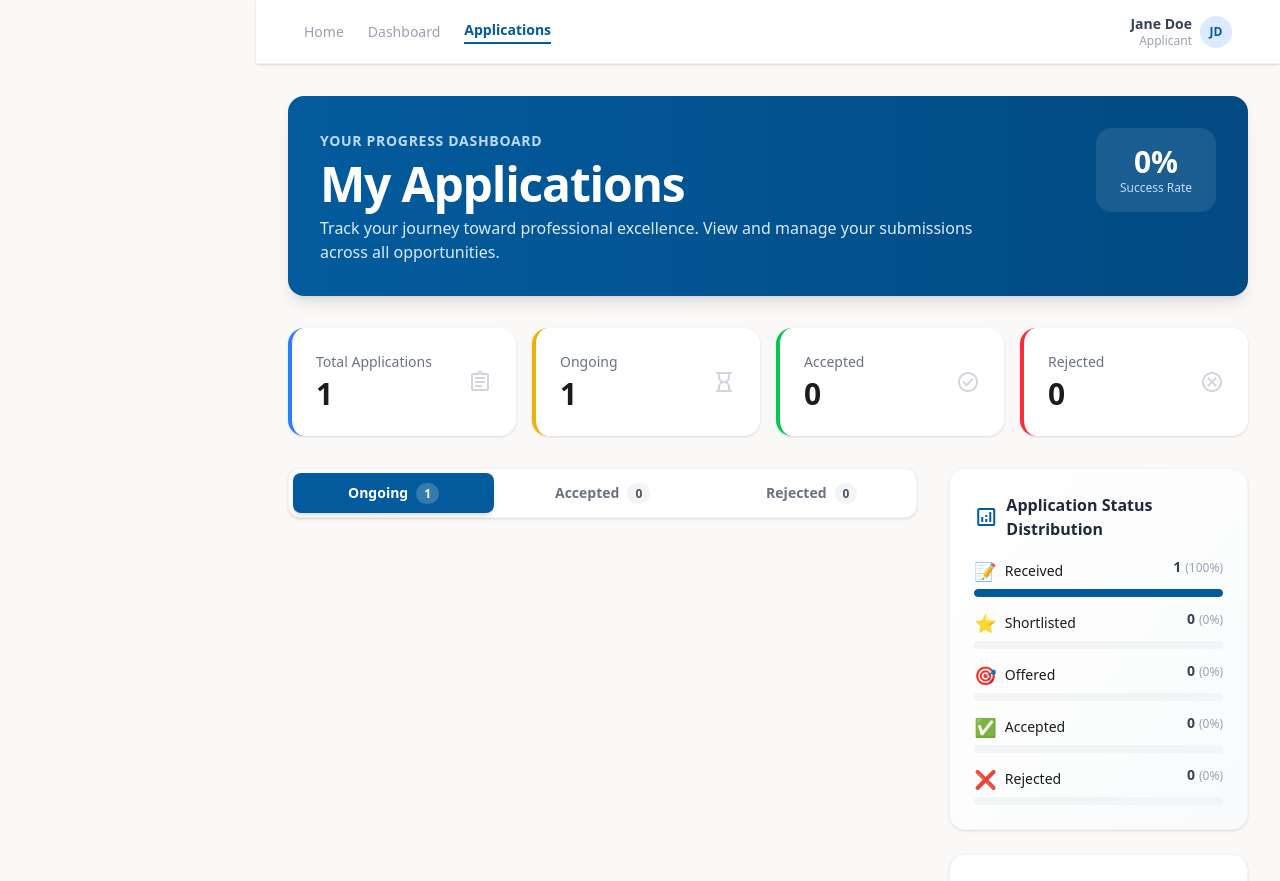
Test case: MyApplications › shows empty state message for Rejected tab with no rejected applications
The width and height of the screenshot is (1280, 881).
Click Rejected tab (select the button explicitly)
What coordinates should you click on to do the following:
click the button "Rejected0"
I would click on:
 (812, 493)
Its box is [711,473,912,513].
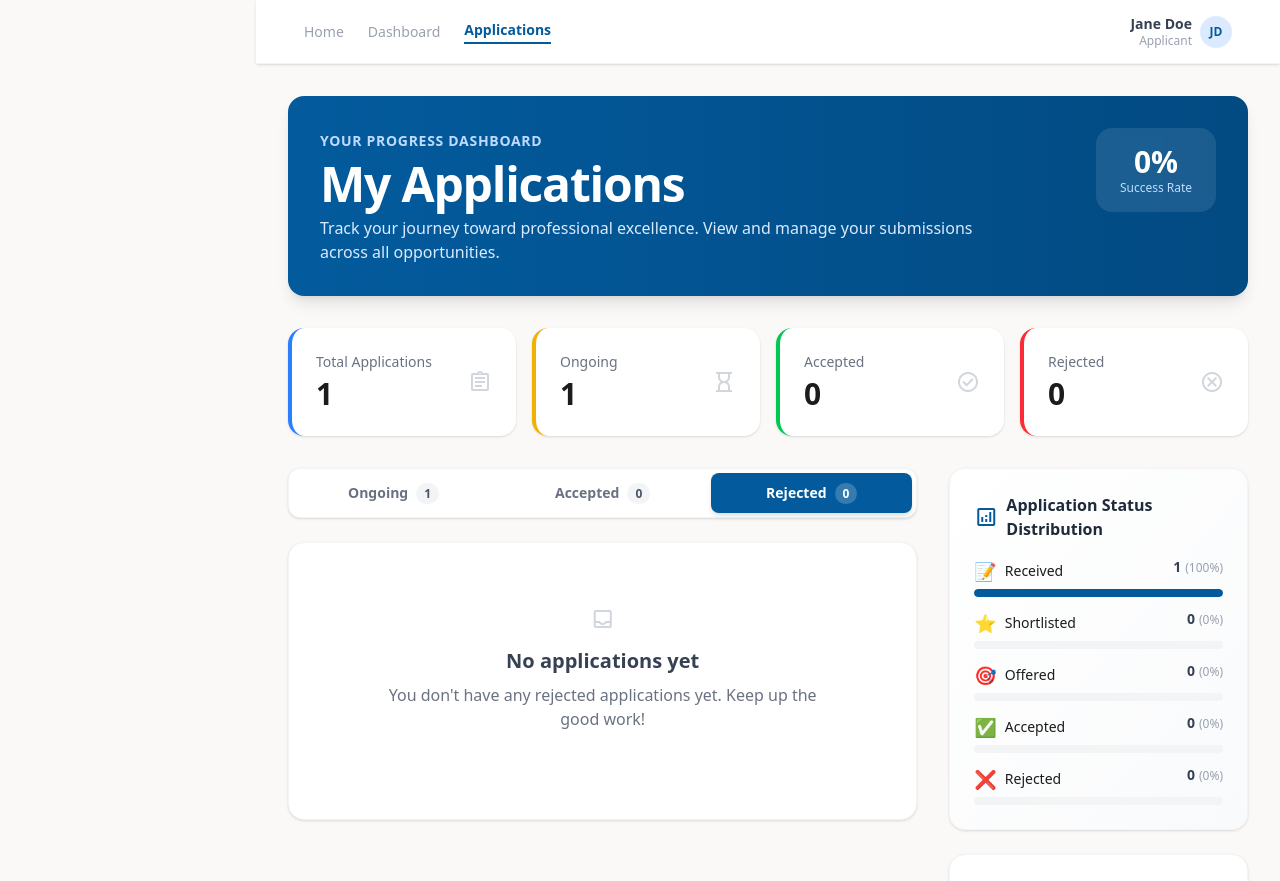
Expected: the text "You don't have any rejected applications yet" is shown, [389,684,817,730]
